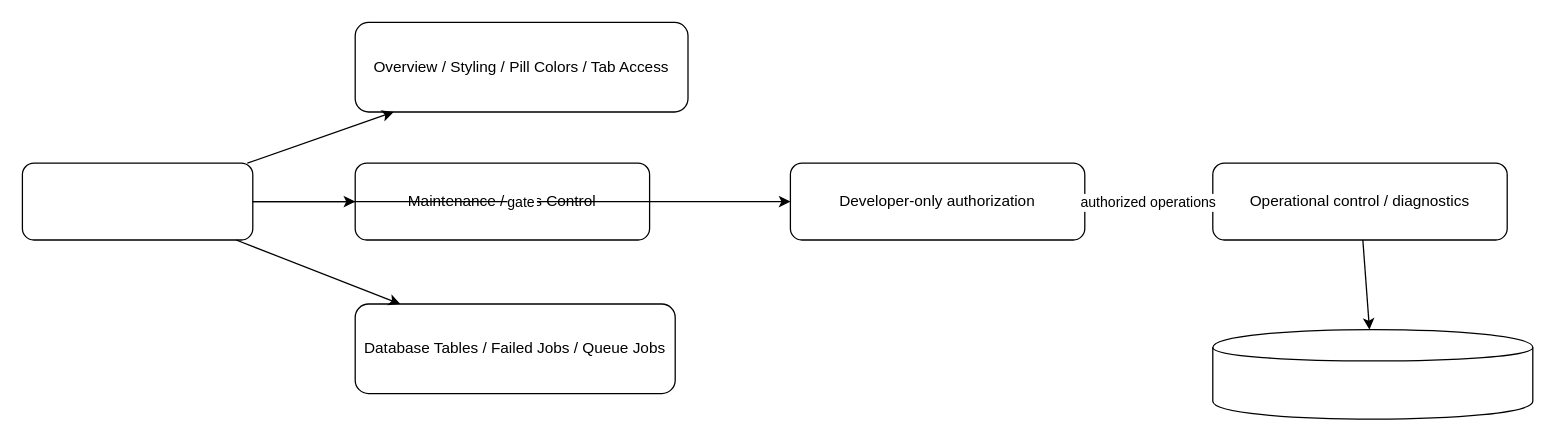
The diagram is 1555 pixels wide and 442 high, and some of its shapes have lost their labels. Each missing label, with the box of its shape:
Application runtime / DB / queue state: (1212, 328, 1533, 419)
Developer Panel: (21, 162, 253, 240)
